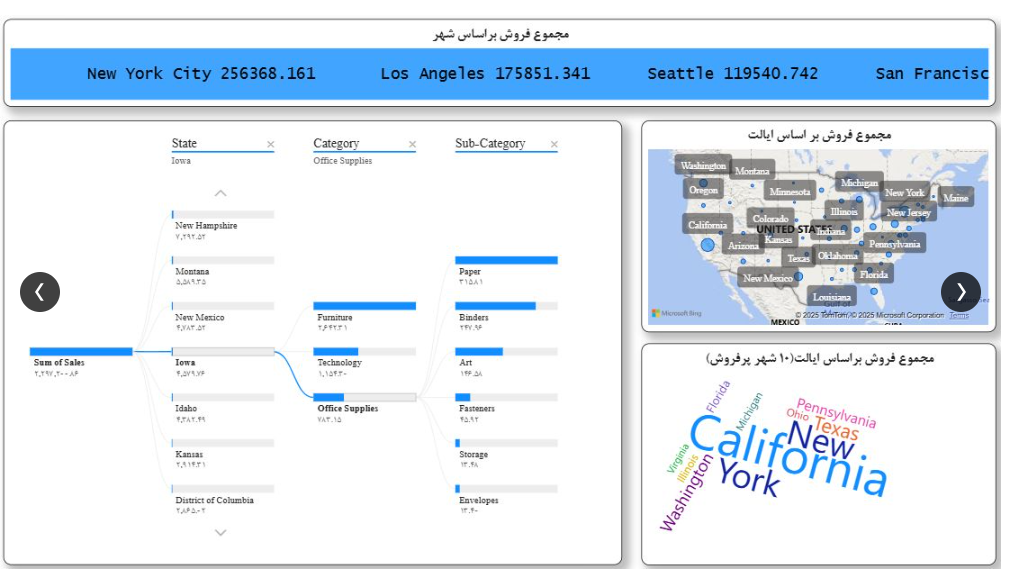

What the dashboard file says about the page in this screenshot:
{"tool":"powerbi","page":{"name":"Page 3","canvas":[1280,720],"ordinal":2},"visuals":[{"type":"decompositionTreeVisual","fields":{"Analyze":["Sum(Orders.Sales)"],"ExplainBy":["Orders.State","Orders.Category","Orders.Sub-Category"]},"box":[10,137.1,785.7,564.3],"z":0},{"type":"map","title":"مجموع فروش بر اساس ایالت","fields":{"Category":["Orders.State","Orders.City"],"Size":["Sum(Orders.Sales)"]},"box":[820,137.1,450,268.6],"z":1000},{"type":"ScrollingTextVisual1448795304508","title":"مجموع فروش براساس شهر","fields":{"Category":["Orders.City"],"Measure Absolute":["Sum(Orders.Sales)"]},"box":[10,8.6,1260,111.4],"z":2000},{"type":"WordCloud1447959067750","title":"مجموع فروش براساس ایالت(10 شهر پرفروش)","fields":{"Values":["Sum(Orders.Sales)"],"Category":["Orders.State"]},"box":[820,420,450,281.4],"z":2001}]}

Visuals, with their boxes in screenshot pixels (x1, y1, x2, y2), scaled from the page's 1280x720 canvas onto the 1014x577 screenshot:
decompositionTreeVisual - Sum(Orders.Sales) x Orders.State: select_region(8, 110, 630, 562)
"مجموع فروش بر اساس ایالت" map: select_region(650, 110, 1006, 325)
"مجموع فروش براساس شهر" ScrollingTextVisual1448795304508: select_region(8, 7, 1006, 96)
"مجموع فروش براساس ایالت(10 شهر پرفروش)" WordCloud1447959067750: select_region(650, 337, 1006, 562)
